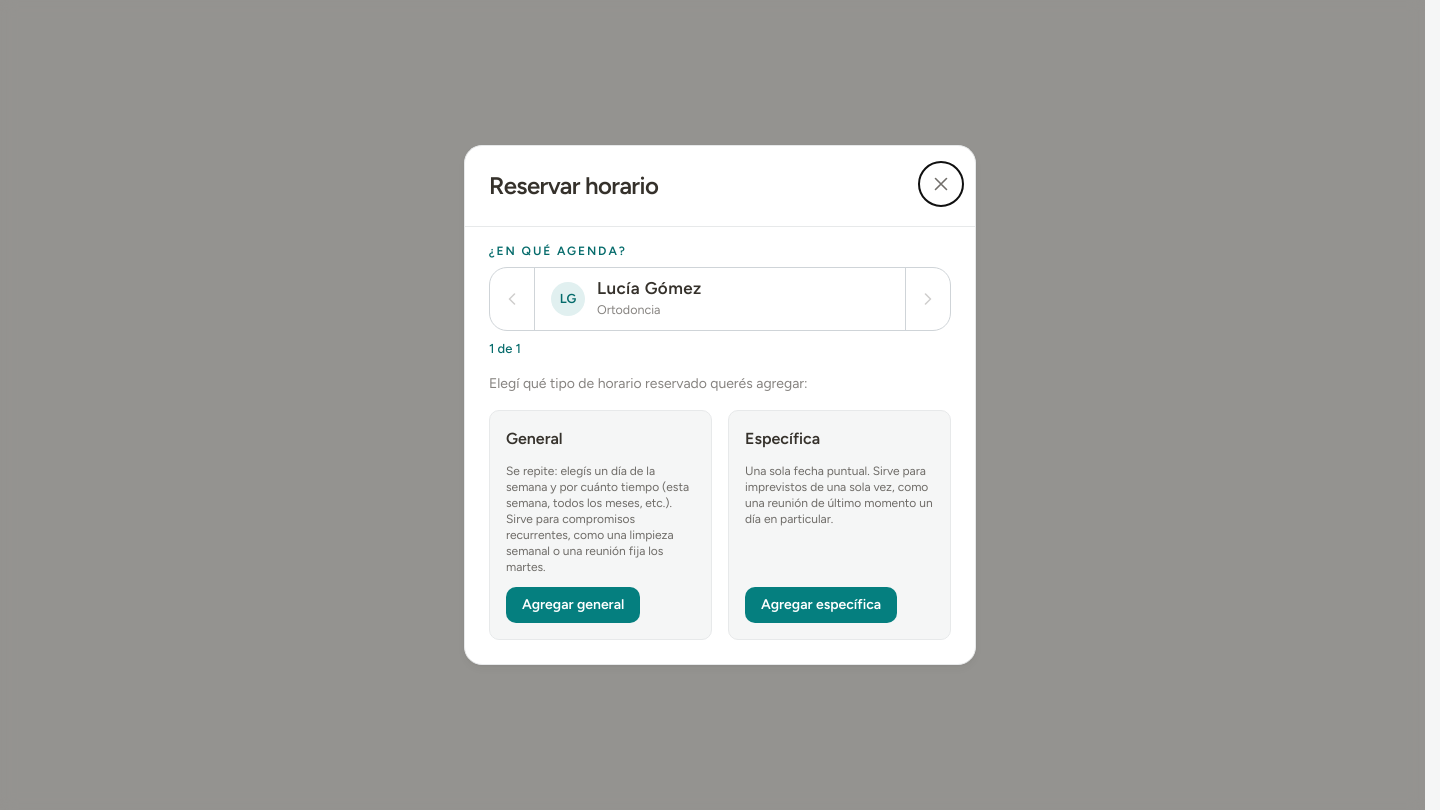
Test: ReservarHorarioModal › 'Agregar específica' abre el formulario de horario reservado específico
Click the button "Agregar específica" at (821, 605), box [745,587,897,623]
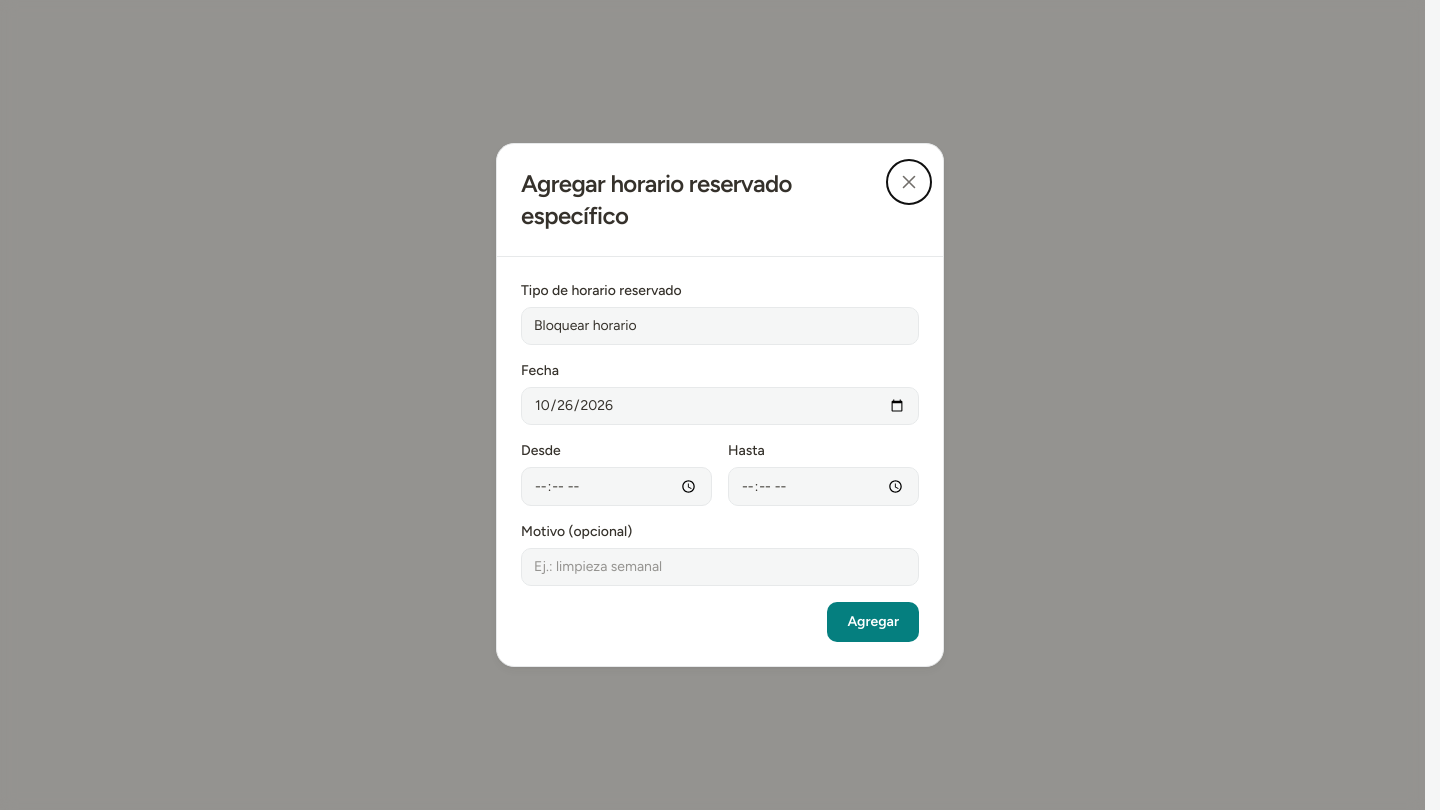
expect the dialog "Agregar horario reservado específico" is shown: met, box [496,143,944,667]
